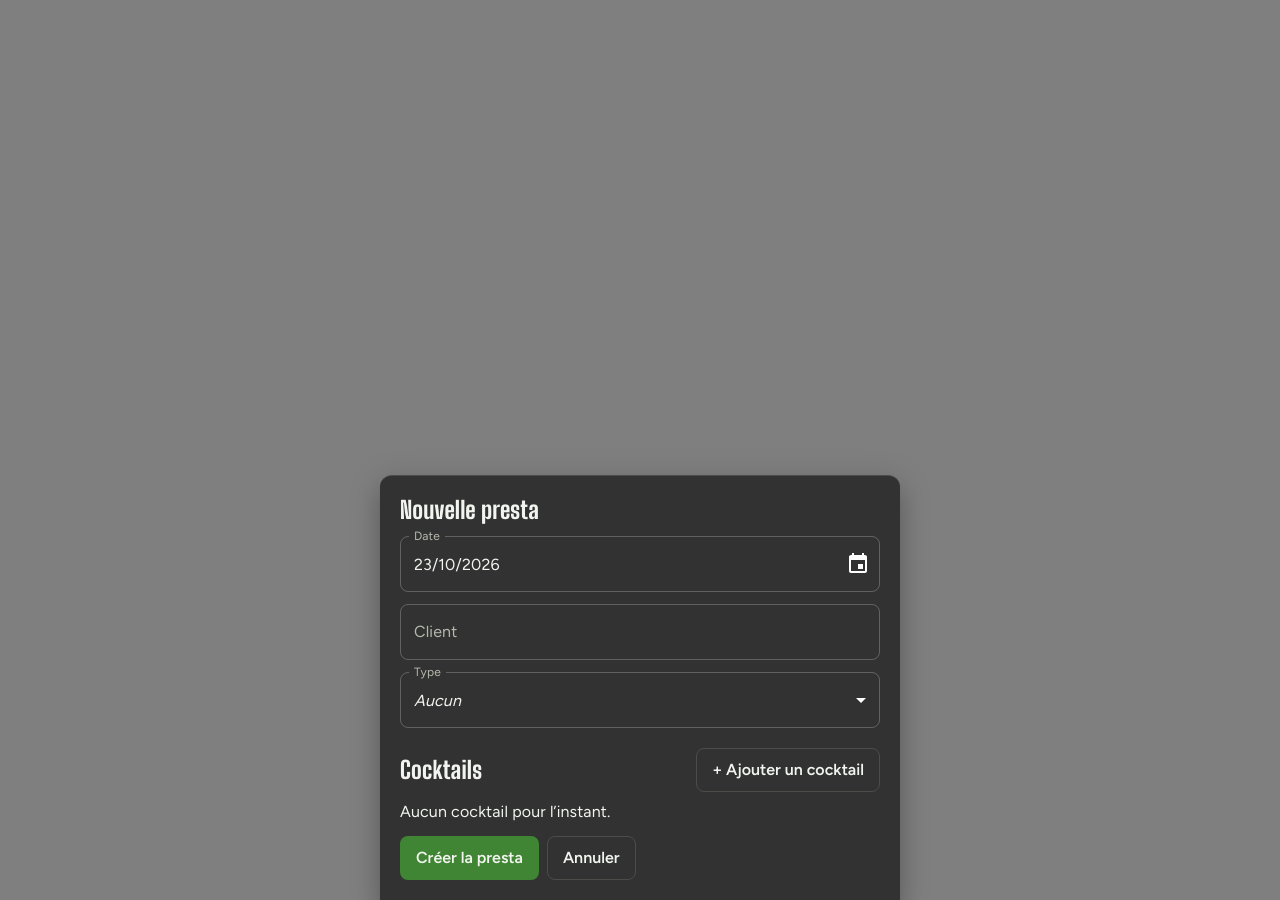
it: EcranNouvellePresta › filtre la feuille d’ajout par base
This screenshot has width=1280, height=900.
Click the button "+ Ajouter un cocktail" at (788,770), box top-left (696, 748), bottom-right (880, 792)
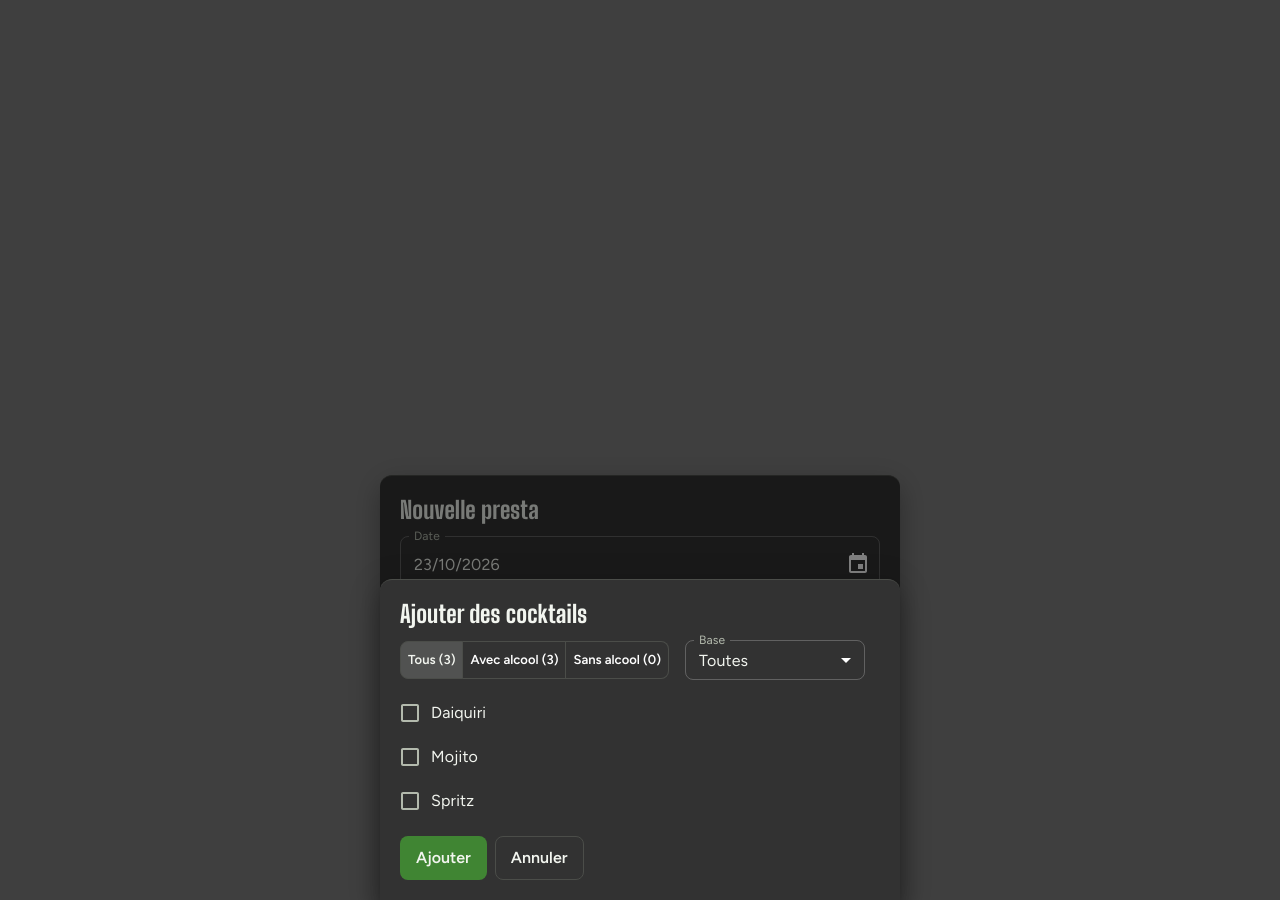
Press the mouse on the dropdown named "Base" at (724,660), box top-left (699, 650), bottom-right (748, 670)
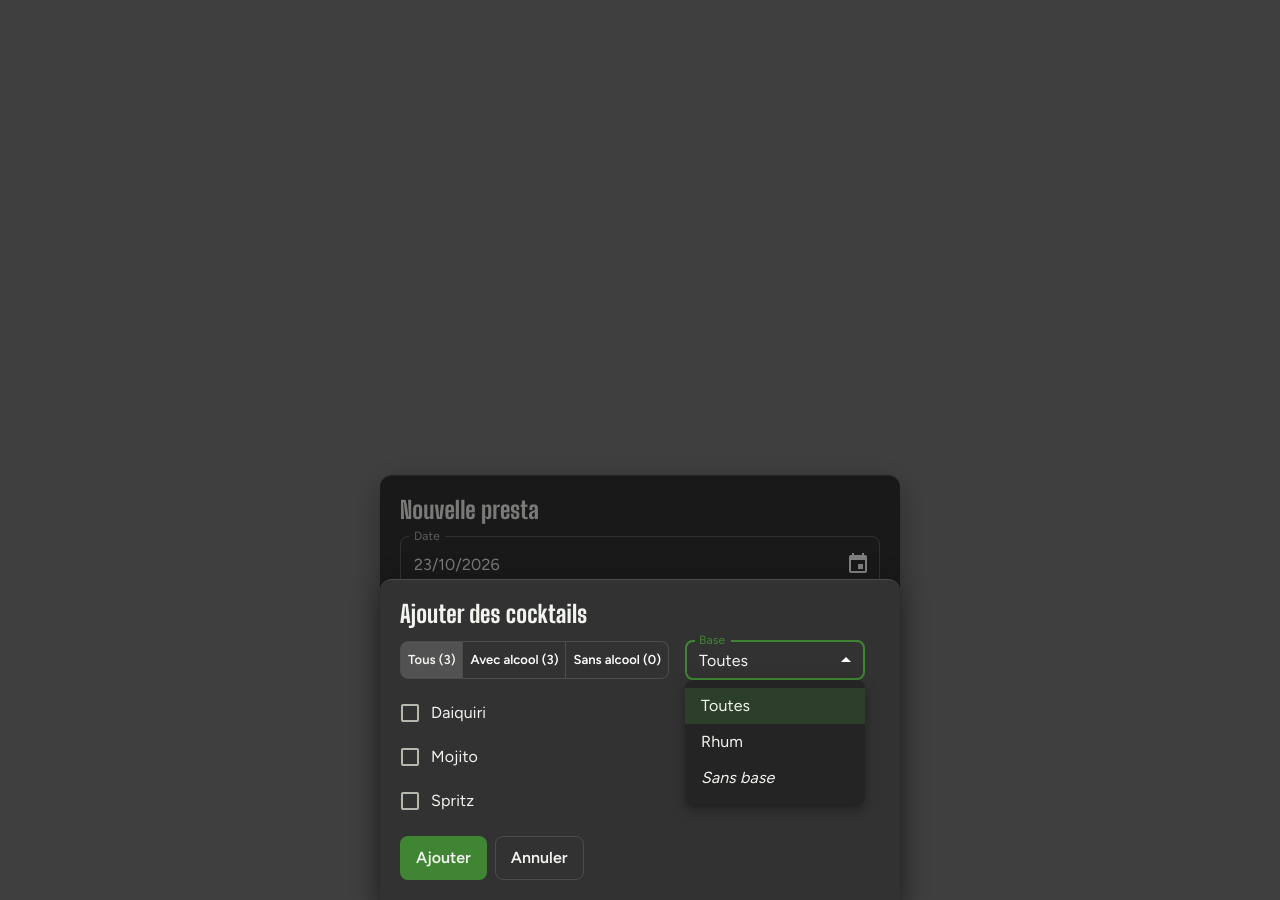
Click the option "Rhum" at (722,742), box top-left (701, 732), bottom-right (743, 751)
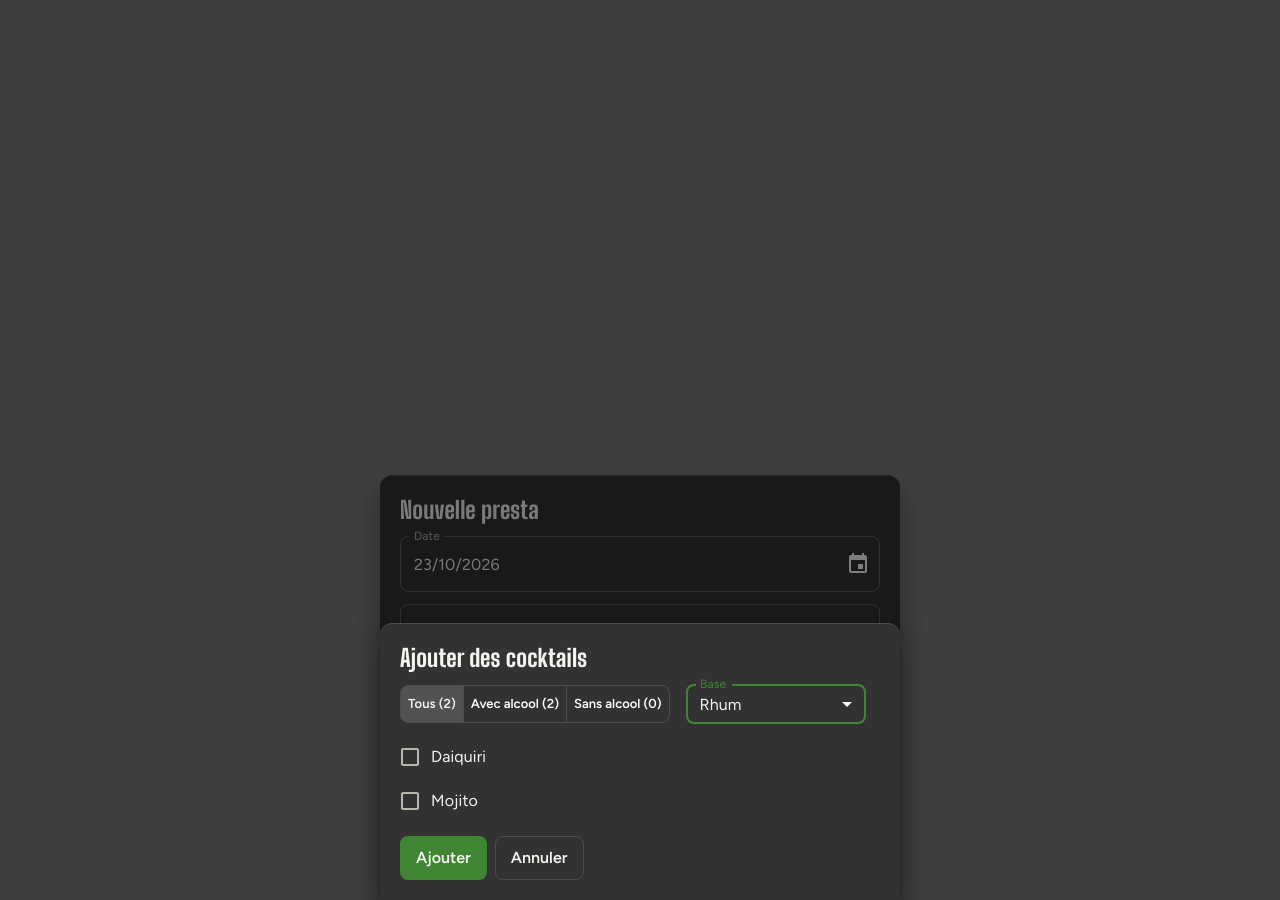
Expected: the button "Tous (2)" is shown, top-left (400, 685), bottom-right (464, 723)
